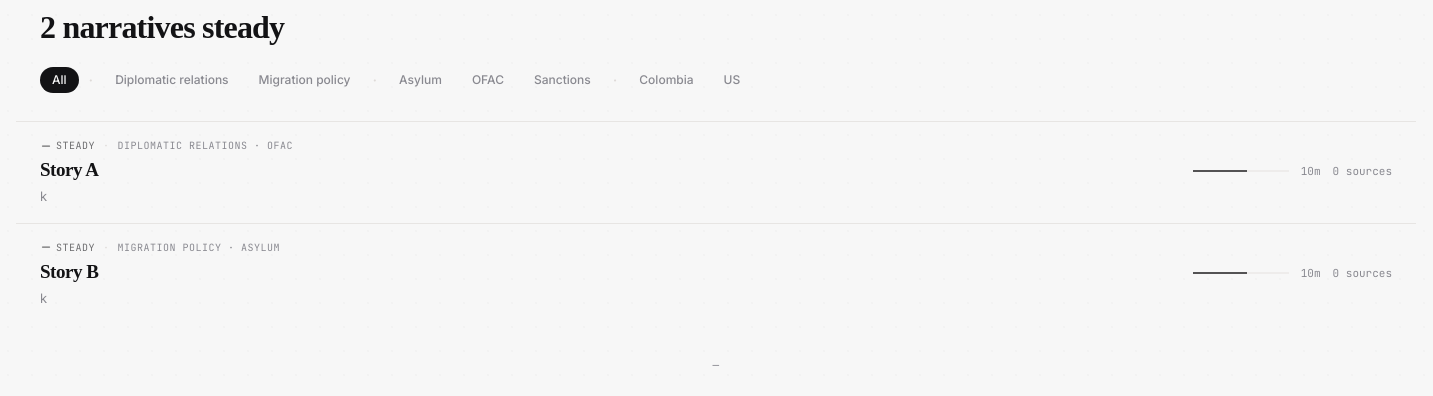
Phase 6: dynamic header pills › AND across sections — both axes must match
The width and height of the screenshot is (1433, 396).
Expected: the heading "Story A" is shown, [40, 159, 98, 180]
Click the button with test id "pill-topic-Migration policy" at [305, 80], box [247, 67, 362, 93]
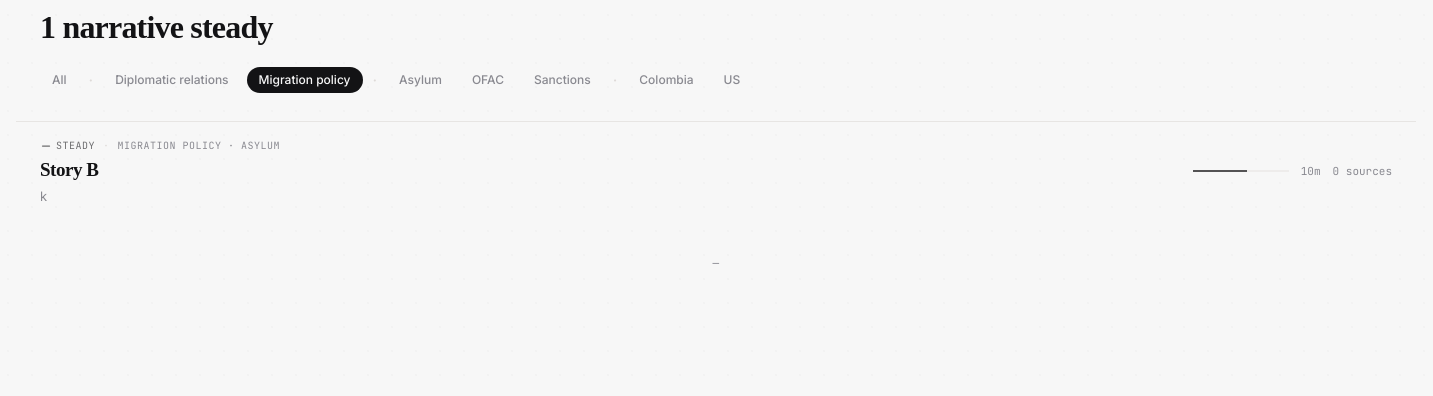
Click the button with test id "pill-keyword-OFAC" at [488, 80], box [460, 67, 516, 93]
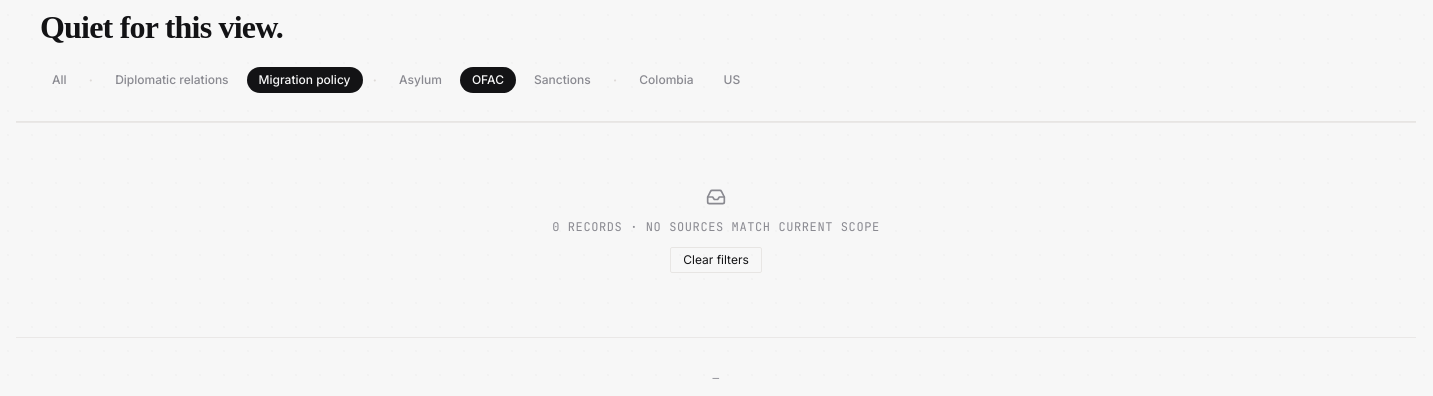
Expected: the button "Story A" is not shown
Now the button "Story B" is gone
